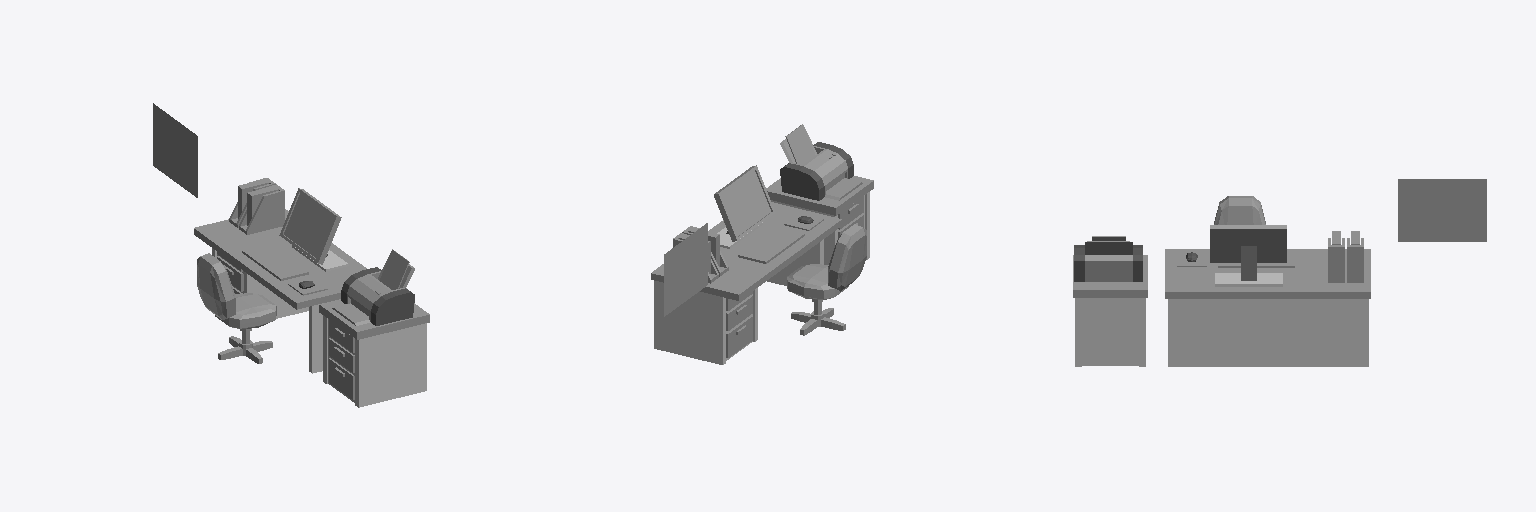
File: Desk-Set.obj
The picture shows the model from 3 angles: view 1: azimuth 30°, elevation 25°; view 2: azimuth 150°, elevation 25°; view 3: azimuth 270°, elevation 25°; orthographic projection.
Visible parts, largest first — view 1: Cube.179_Cube.209, Cube.163_Cube.193, Cube.168_Cube.198, Cube.155_Cube.185, Cube.186_Cube.216, Cube.169_Cube.199, Cube.161_Cube.191, Cube.156_Cube.186, Cube.183_Cube.213, Cube.157_Cube.187, Cube.182_Cube.212, Cube.176_Cube.206 (+3 smaller); view 2: Cube.179_Cube.209, Cube.177_Cube.207, Cube.168_Cube.198, Cube.155_Cube.185, Cube.186_Cube.216, Cube.169_Cube.199, Cube.161_Cube.191, Cube.183_Cube.213, Cube.173_Cube.203, Cube.182_Cube.212, Cylinder.013_Cylinder.014, Cube.176_Cube.206 (+1 smaller); view 3: Cube.178_Cube.208, Cube.179_Cube.209, Cube.155_Cube.185, Cube.164_Cube.194, Cube.168_Cube.198, Cube.186_Cube.216, Cube.161_Cube.191, Cube.169_Cube.199, Cube.184_Cube.214, Cube.158_Cube.188, Cube.157_Cube.187, Cube.185_Cube.215.
Part boxes in pixels (bbox=[...]): Cube.179_Cube.209: bbox=[194, 209, 366, 309]; Cube.163_Cube.193: bbox=[355, 323, 426, 407]; Cube.168_Cube.198: bbox=[332, 255, 414, 325]; Cube.155_Cube.185: bbox=[153, 103, 197, 197]; Cube.186_Cube.216: bbox=[279, 188, 341, 264]; Cube.169_Cube.199: bbox=[197, 253, 235, 319]; Cube.161_Cube.191: bbox=[319, 299, 429, 339]; Cube.156_Cube.186: bbox=[329, 320, 354, 399]; Cube.183_Cube.213: bbox=[215, 293, 276, 328]; Cube.157_Cube.187: bbox=[239, 184, 284, 234]; Cube.182_Cube.212: bbox=[242, 244, 308, 280]; Cube.176_Cube.206: bbox=[309, 299, 339, 373]; Cube.179_Cube.209: bbox=[651, 202, 841, 300]; Cube.177_Cube.207: bbox=[654, 281, 725, 364]; Cube.168_Cube.198: bbox=[780, 129, 862, 200]; Cube.155_Cube.185: bbox=[664, 223, 707, 316]; Cube.186_Cube.216: bbox=[714, 165, 775, 241]; Cube.169_Cube.199: bbox=[828, 224, 866, 291]; Cube.161_Cube.191: bbox=[766, 176, 873, 215]; Cube.183_Cube.213: bbox=[787, 264, 848, 299]; Cube.173_Cube.203: bbox=[726, 291, 752, 357]; Cube.182_Cube.212: bbox=[738, 227, 804, 263]; Cylinder.013_Cylinder.014: bbox=[791, 308, 845, 335]; Cube.176_Cube.206: bbox=[767, 239, 823, 285]; Cube.178_Cube.208: bbox=[1175, 299, 1361, 366]; Cube.179_Cube.209: bbox=[1165, 249, 1370, 298]; Cube.155_Cube.185: bbox=[1398, 179, 1486, 241]; Cube.164_Cube.194: bbox=[1082, 298, 1138, 365]; Cube.168_Cube.198: bbox=[1074, 241, 1142, 281]; Cube.186_Cube.216: bbox=[1210, 225, 1286, 262]; Cube.161_Cube.191: bbox=[1073, 255, 1147, 297]; Cube.169_Cube.199: bbox=[1214, 196, 1265, 224]; Cube.184_Cube.214: bbox=[1215, 273, 1282, 286]; Cube.158_Cube.188: bbox=[1347, 238, 1363, 282]; Cube.157_Cube.187: bbox=[1328, 238, 1344, 282]; Cube.185_Cube.215: bbox=[1241, 246, 1256, 280].
Size of the model in its own units: 3.93 by 4.03 by 9.86.